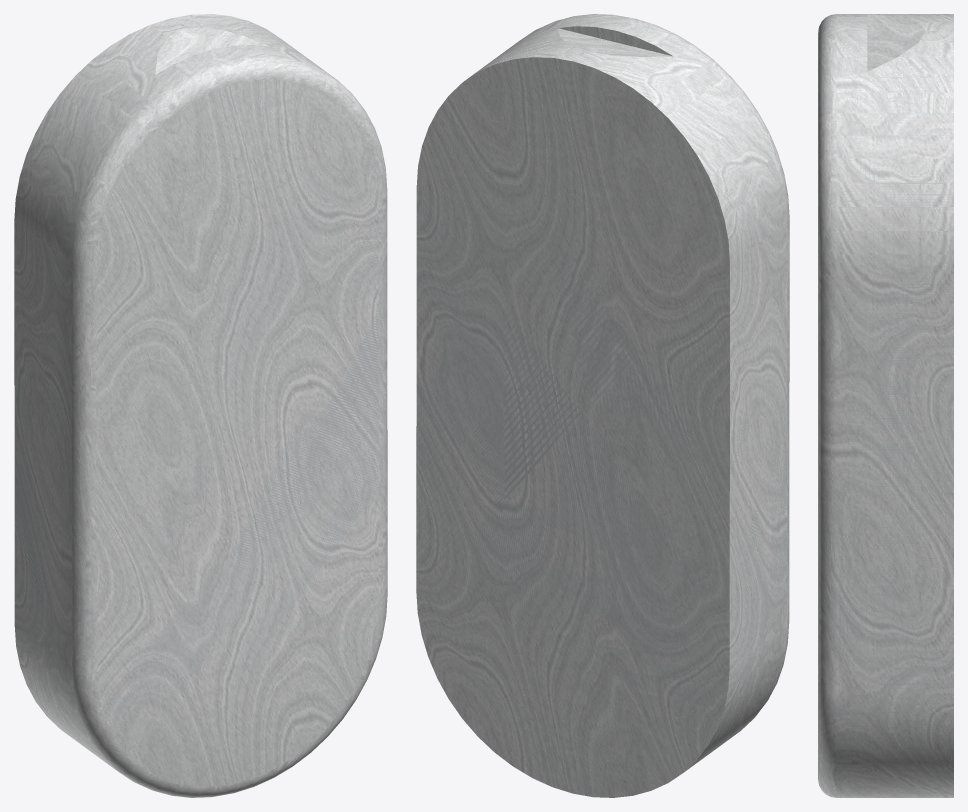
File: 9969508-lock.dae
3 views of the same model, side by side, from view 1: azimuth 30°, elevation 25°; view 2: azimuth 150°, elevation 25°; view 3: azimuth 270°, elevation 25° (orthographic). The views are drawn at different scales.
Parts seen in each view (by area): view 1: Handle_Base.003; view 2: Handle_Base.003; view 3: Handle_Base.003.
Part boxes in pixels (box(x1,y1,x2,y2)): Handle_Base.003: box(14, 14, 387, 797); Handle_Base.003: box(416, 14, 789, 797); Handle_Base.003: box(818, 14, 953, 797).
Bounding box in the file's own units: 0.03 × 0.011 × 0.067.
Materials: 2 (1 with a texture image).
